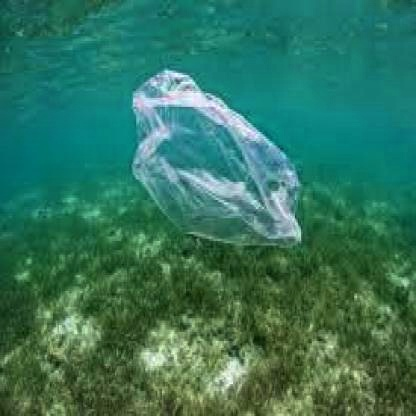pbag: (120, 61, 307, 254)
